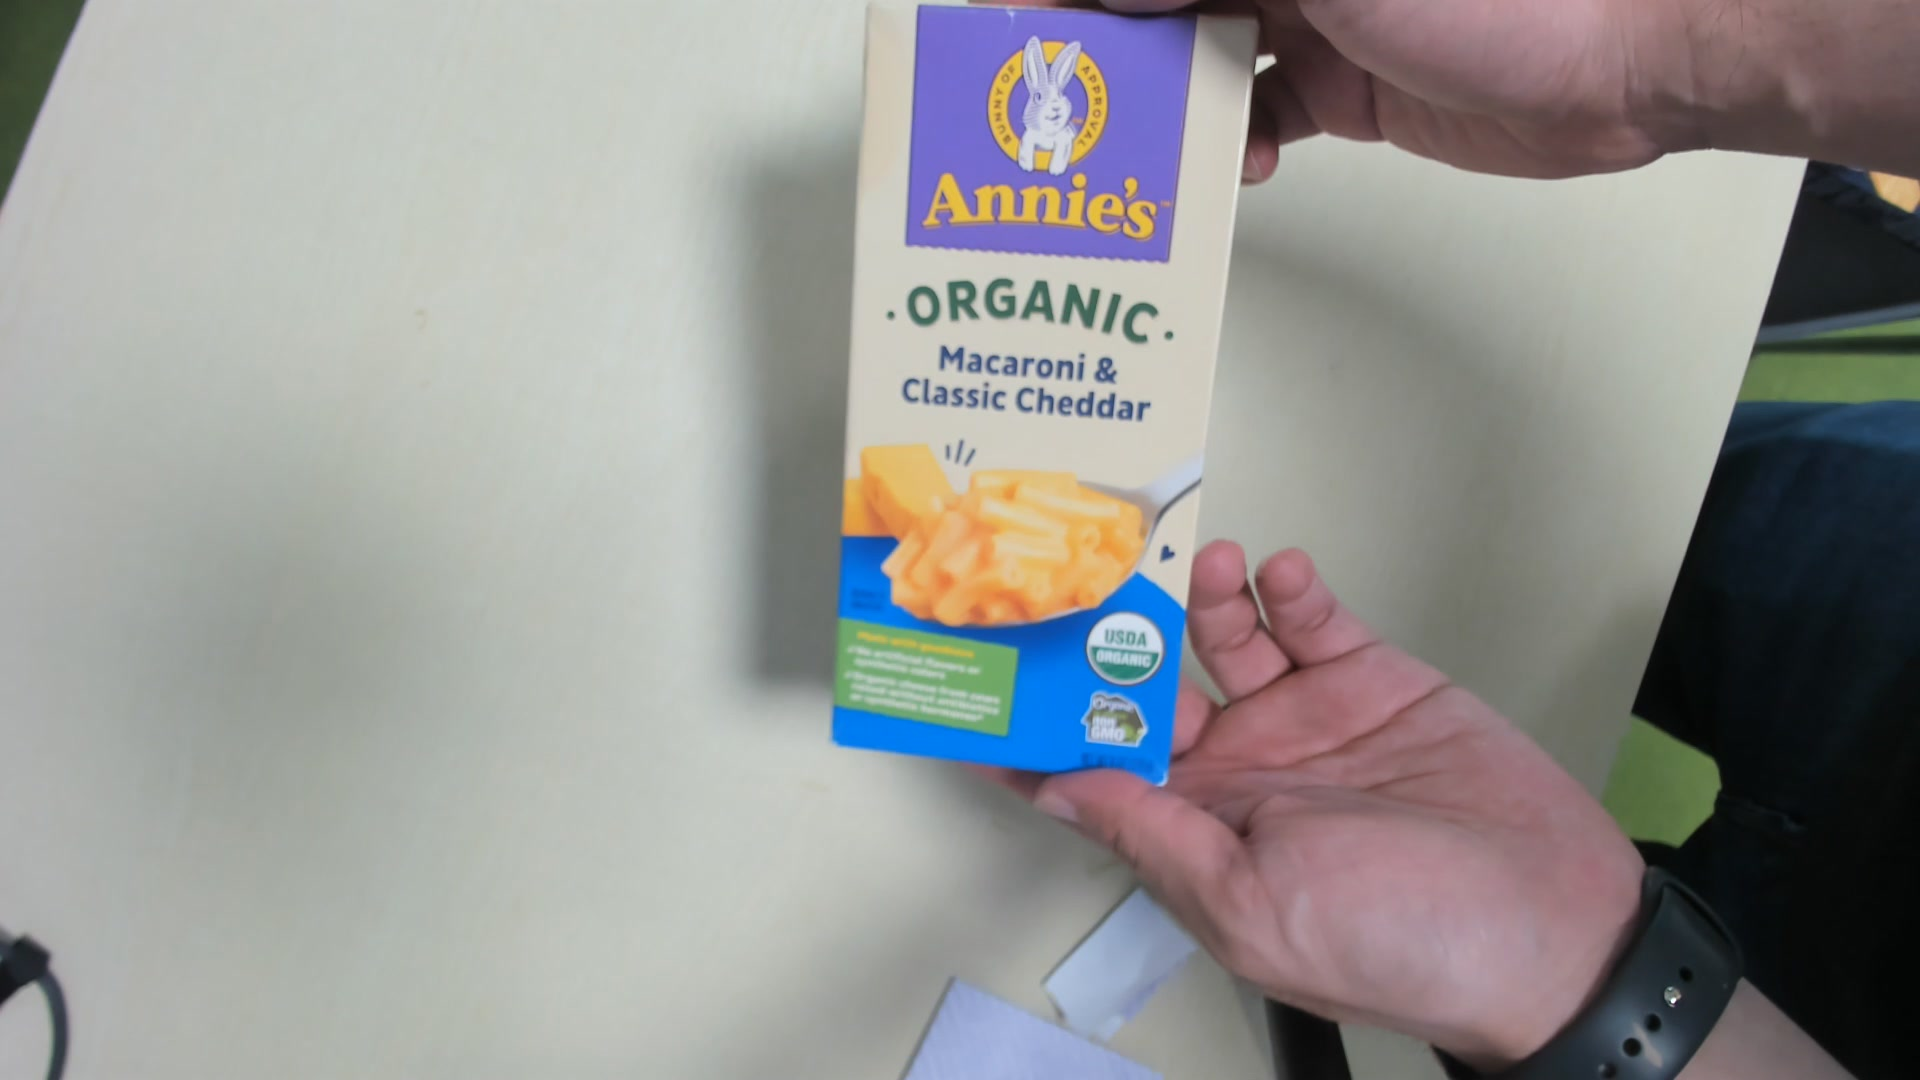InstantMeals_100_199g_NonHalal_NonHealthy: (824, 12, 1269, 781)
